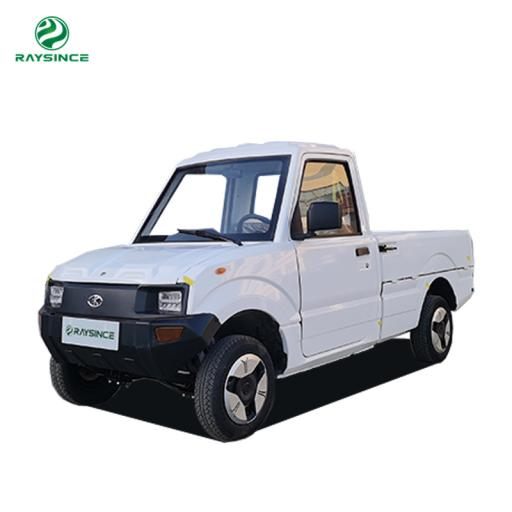pickup: (40, 143, 472, 440)
